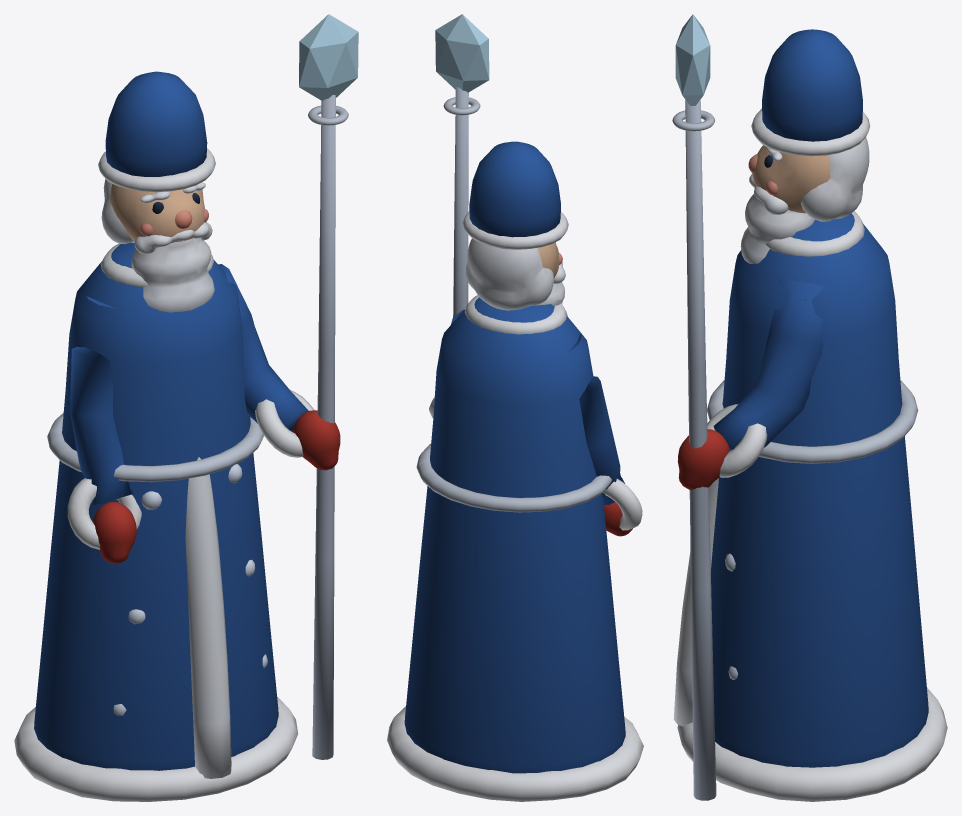
File: frost.glb
3 renders of one model, left to right at view 1: azimuth 30°, elevation 25°; view 2: azimuth 150°, elevation 25°; view 3: azimuth 270°, elevation 25°, orthographic. The views are drawn at different scales.
Visible parts, largest first — view 1: body, staff, star; view 2: body, staff, star; view 3: body, staff, star.
Part boxes in pixels (box(x1,y1,x2,y2)): body: box(14, 71, 340, 801); staff: box(308, 95, 348, 759); star: box(299, 14, 358, 100); body: box(387, 141, 643, 801); staff: box(443, 87, 480, 316); star: box(435, 14, 489, 92); body: box(673, 29, 947, 801); staff: box(672, 100, 716, 800); star: box(675, 14, 710, 105).
Bounding box in the file's own units: 0.8155 × 2.16 × 0.6796.
